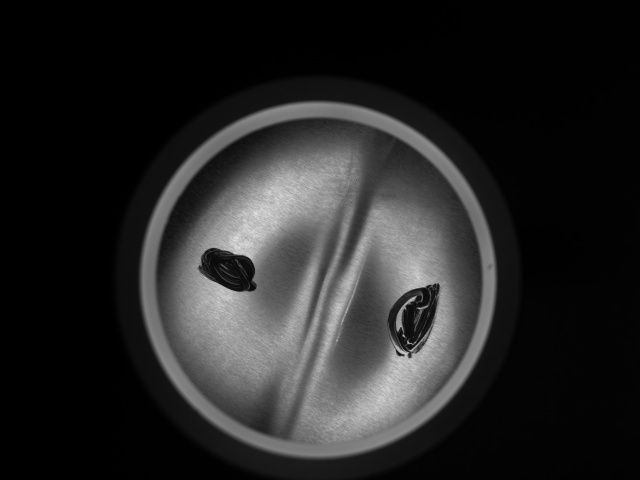zang_wu: (384, 278, 442, 360), (198, 243, 259, 294)
zhe_zhou: (198, 148, 442, 408)
